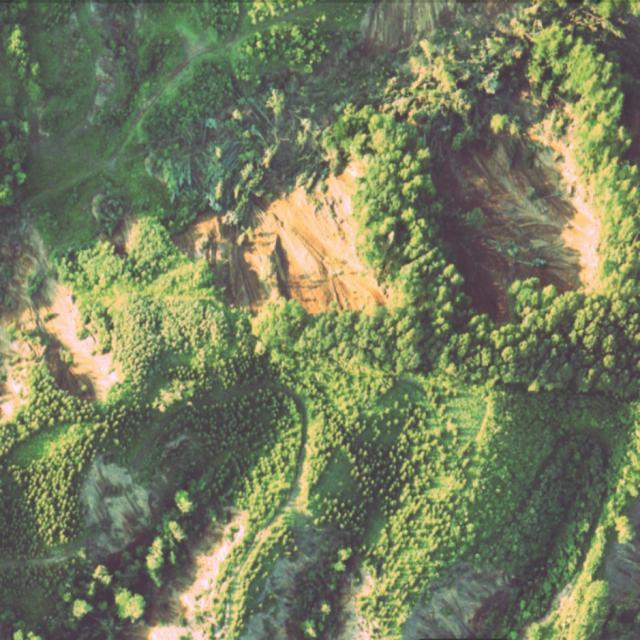landslide: (432, 118, 598, 319), (175, 162, 388, 313), (120, 508, 246, 640), (38, 284, 119, 400)
